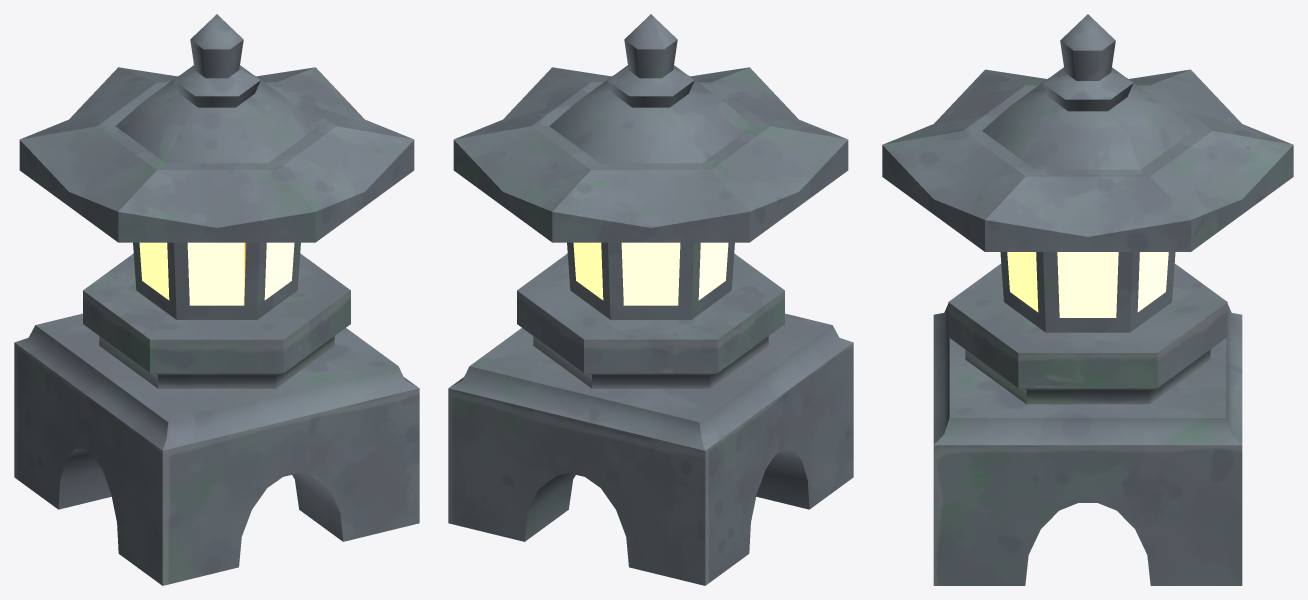
The model's file is SM_Stone_Lantern.fbx.
The picture shows the model from 3 angles, left to right: view 1: azimuth 30°, elevation 25°; view 2: azimuth 150°, elevation 25°; view 3: azimuth 270°, elevation 25°; orthographic projection. The views are drawn at different scales.
Parts seen in each view (by area): view 1: Cylinder; view 2: Cylinder; view 3: Cylinder.
Boxes of the visible parts, x1,y1,x2,y2 form: Cylinder: (14, 14, 419, 585); Cylinder: (448, 14, 853, 585); Cylinder: (882, 14, 1293, 585).
Bounding box in the file's own units: 0.4712 × 0.7395 × 0.5441.
